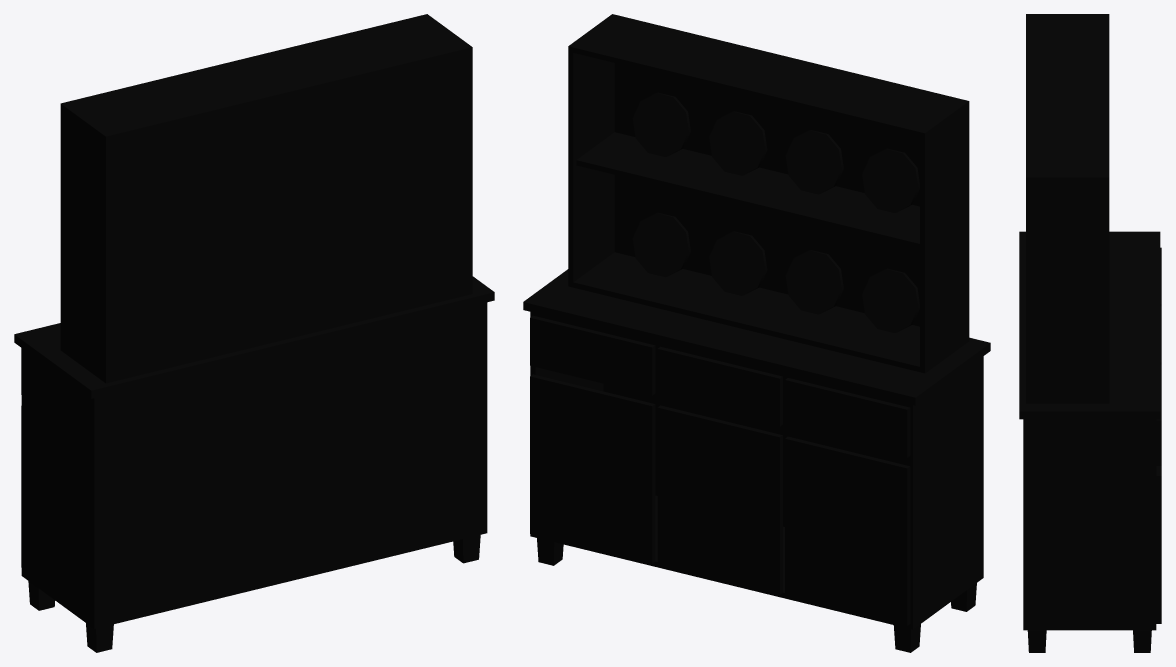
Rendered from SM_hutch_oak.fbx.
3 views of the same model, side by side, from view 1: azimuth 30°, elevation 25°; view 2: azimuth 150°, elevation 25°; view 3: azimuth 270°, elevation 25° (orthographic). The views are drawn at different scales.
Visible parts, largest first — view 1: hutch_oak; view 2: hutch_oak, hutch_oak_door; view 3: hutch_oak.
Boxes of the visible parts, x1=… form: hutch_oak: x1=14, y1=14, x2=494, y2=652; hutch_oak: x1=523, y1=14, x2=990, y2=652; hutch_oak_door: x1=657, y1=405, x2=782, y2=594; hutch_oak: x1=1019, y1=14, x2=1161, y2=652.
Size of the model in its own units: 1.54 by 1.88 by 0.515.
